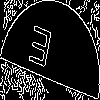E: (25, 25, 54, 78)
